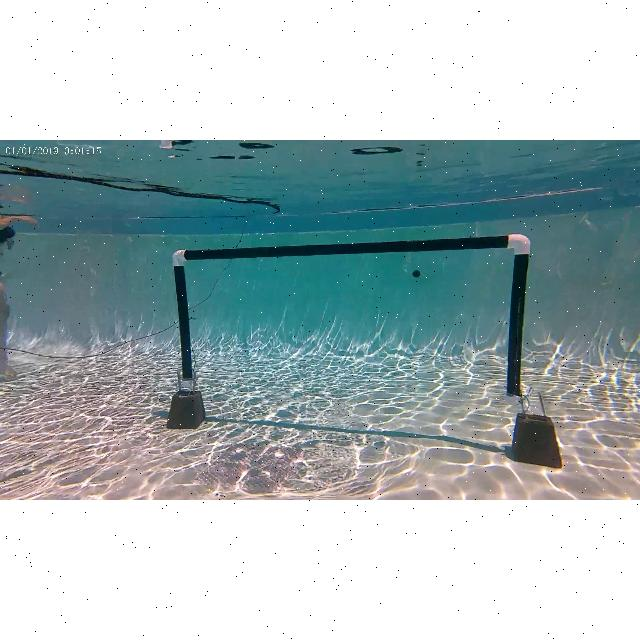prequal gate: (173, 234, 531, 402)
prequal gate leg l: (169, 233, 209, 415)
prequal gate leg r: (497, 230, 535, 414)
